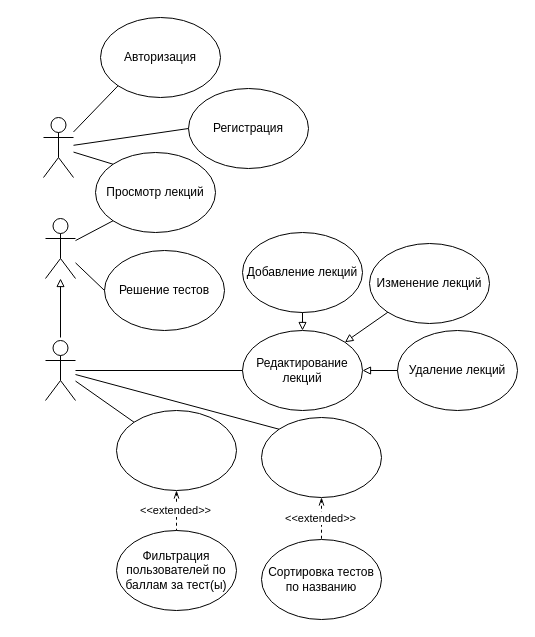
Image size: 535x637. Some labels were removed from this diagram. Here are the shapes that lost their labels. From the top down, the box of each, then its label:
(42, 116, 74, 178): Гость
(44, 218, 76, 278): Пользователь
(44, 340, 76, 400): Преподаватель
(116, 410, 236, 490): Просмотр пользователей
(260, 416, 382, 498): Просмотр тестов
